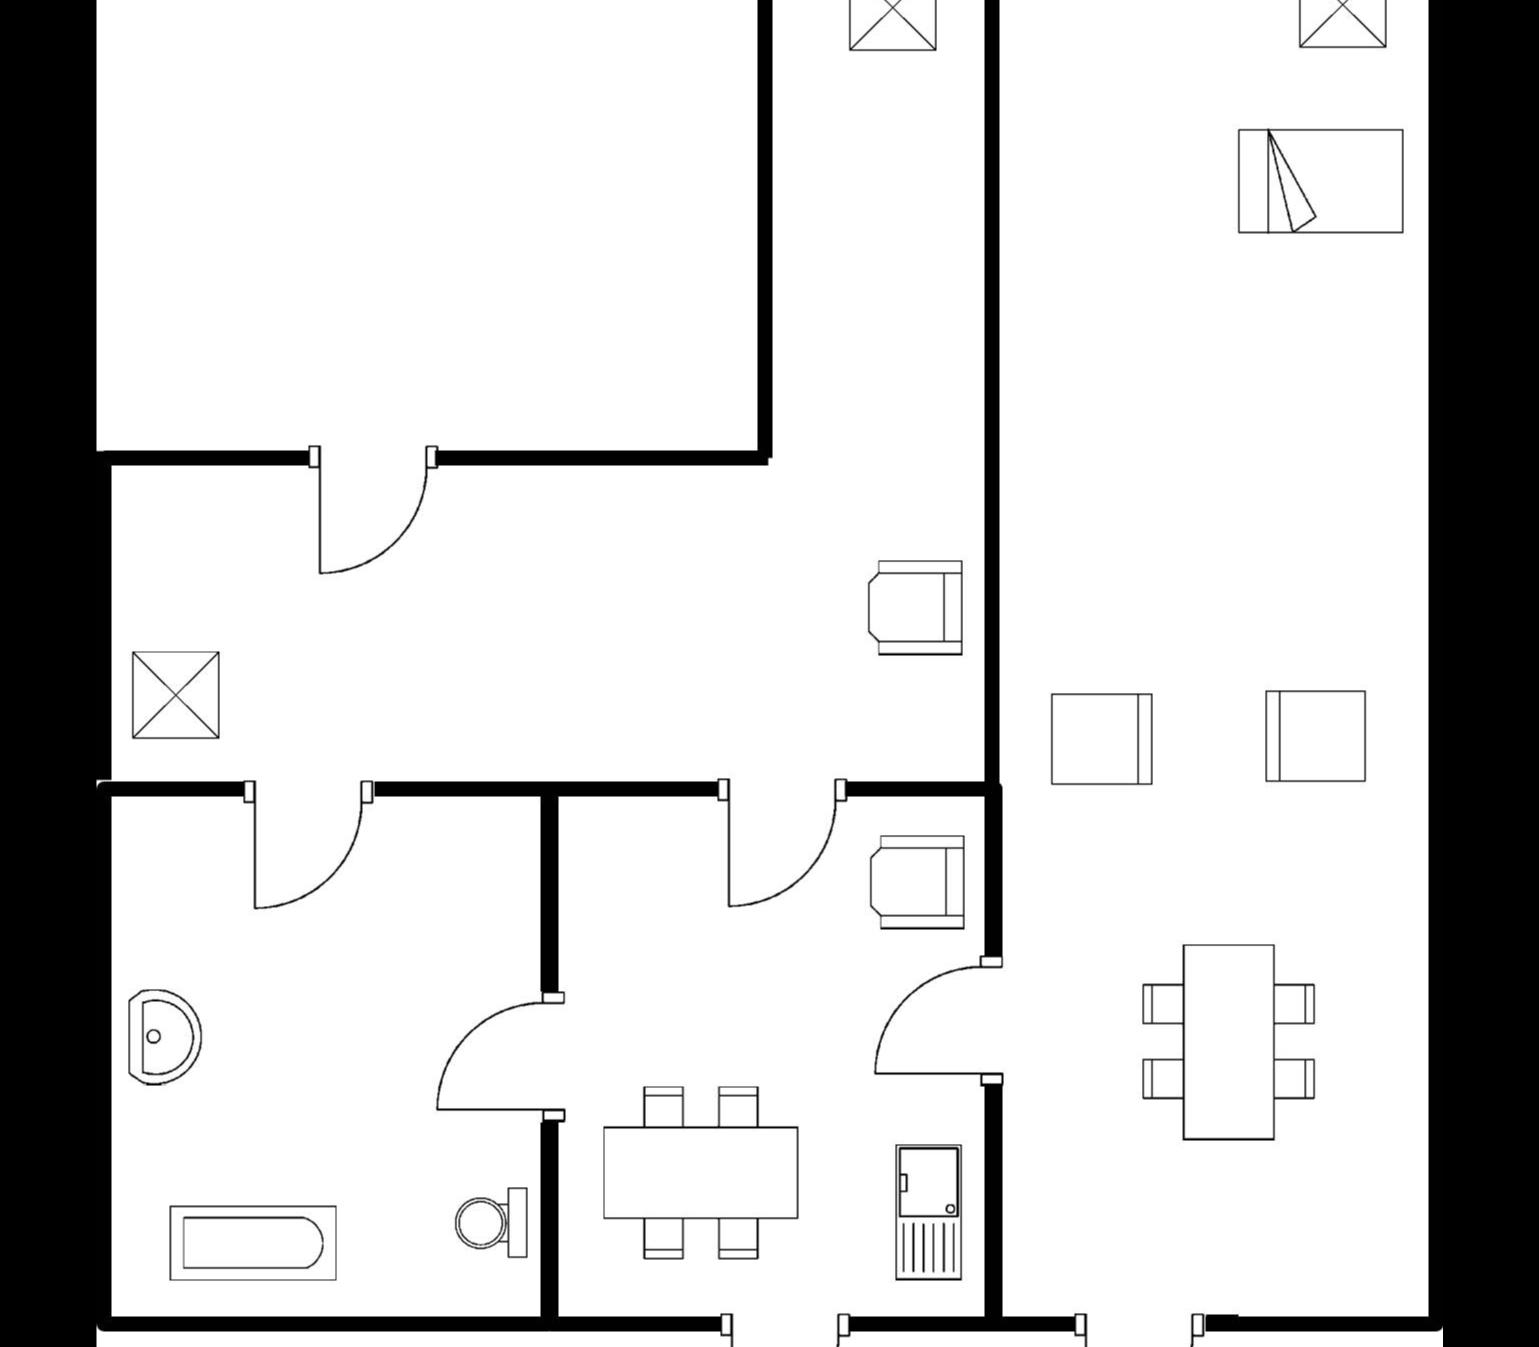bed: (1228, 117, 1409, 243)
dining_table: (592, 1073, 809, 1278), (1131, 933, 1323, 1148)
sink: (885, 1138, 978, 1291)
toilet: (442, 1181, 533, 1268)
tub: (158, 1196, 347, 1289)
